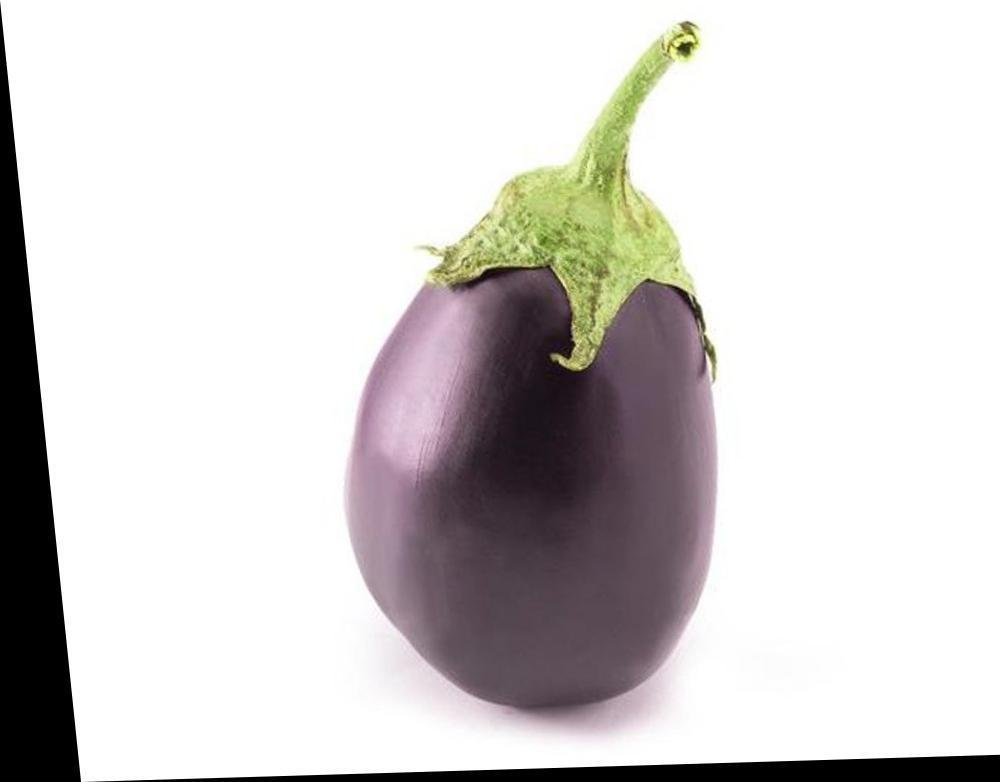eggplant: (217, 60, 886, 719)
